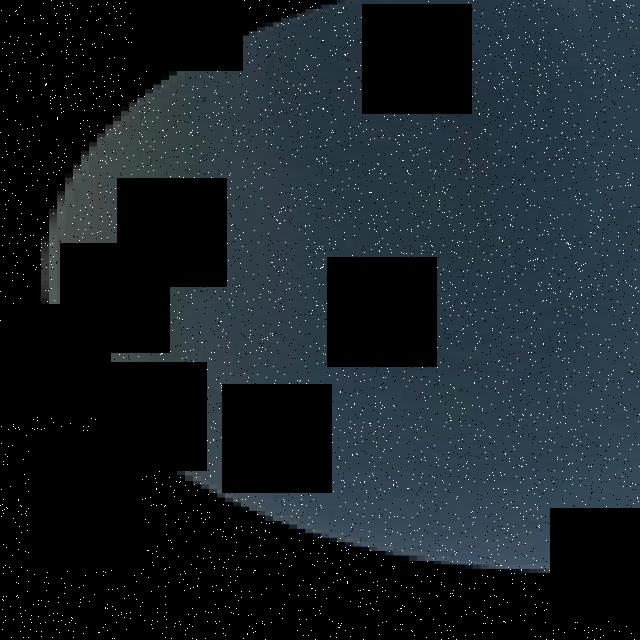Uranus: (32, 0, 640, 573)
